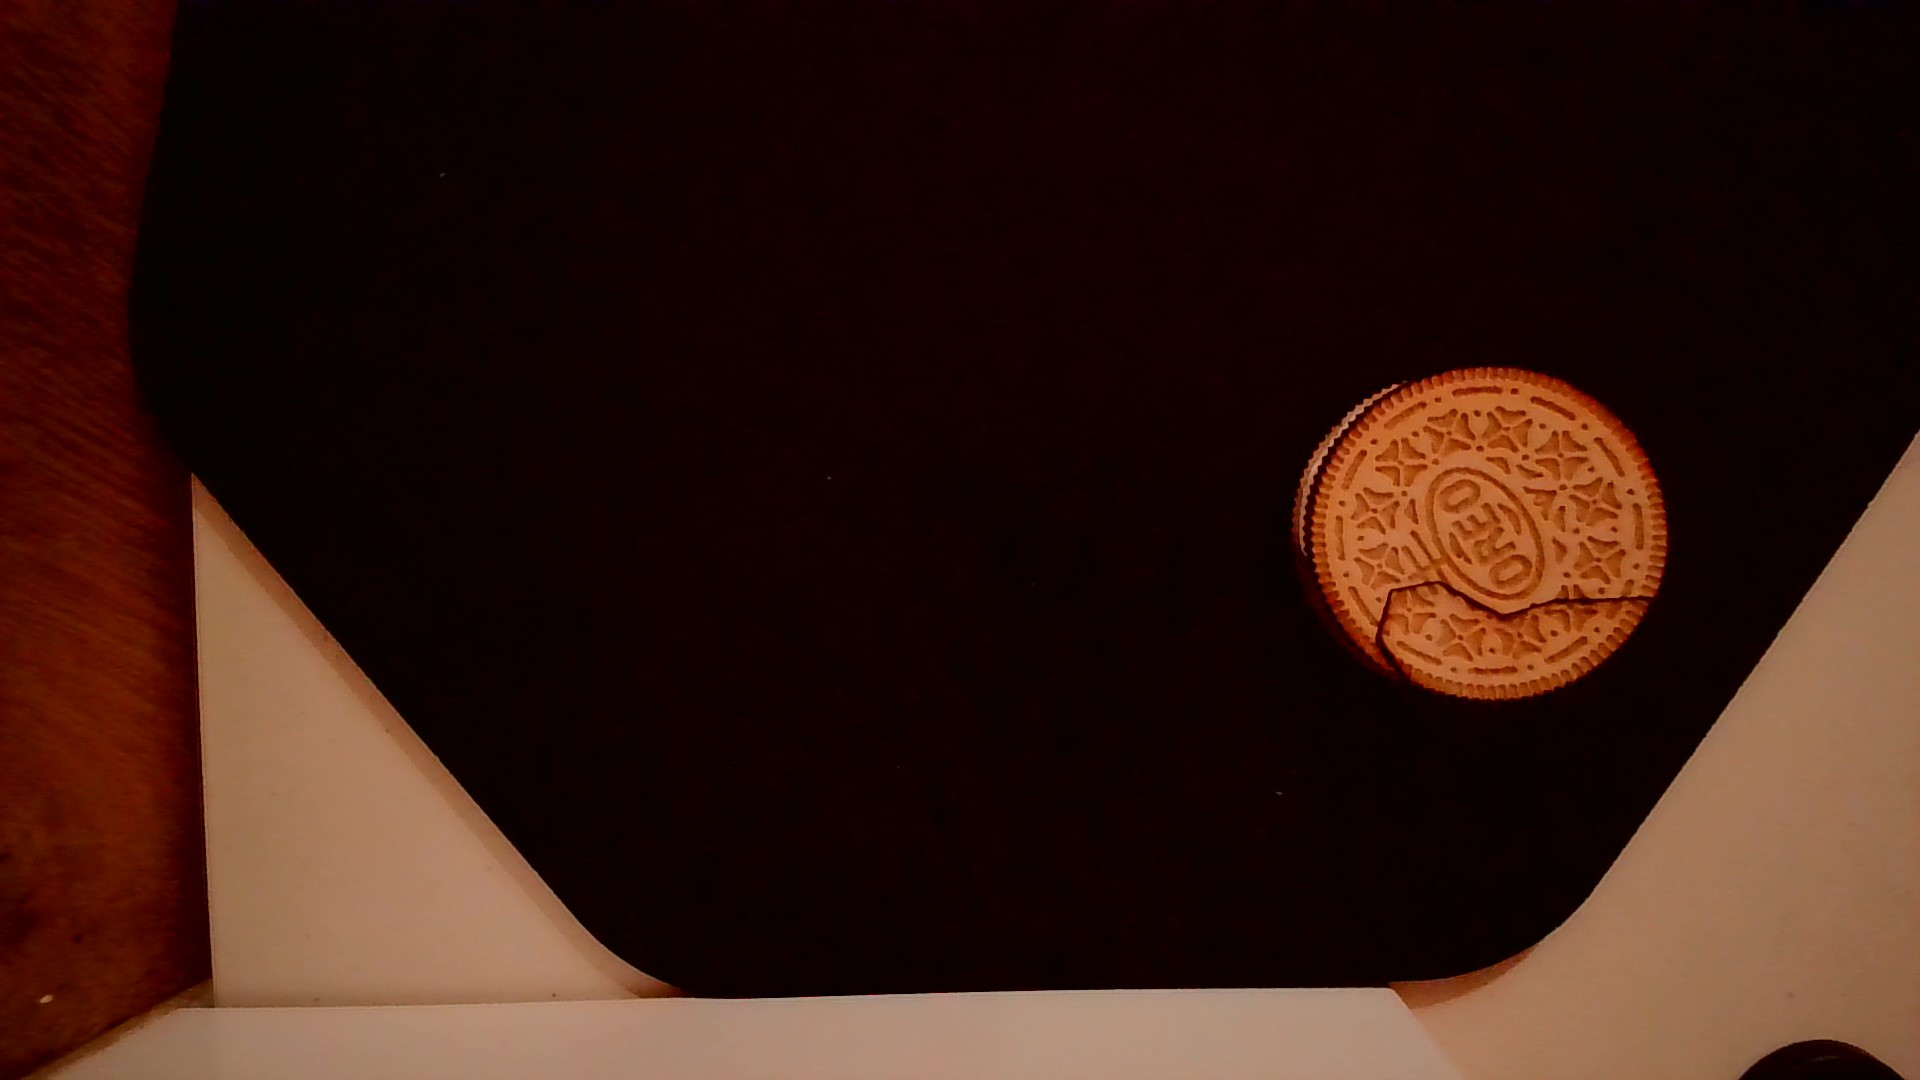Fissure: (1369, 567, 1662, 700)
Oréo: (1280, 356, 1676, 705)
